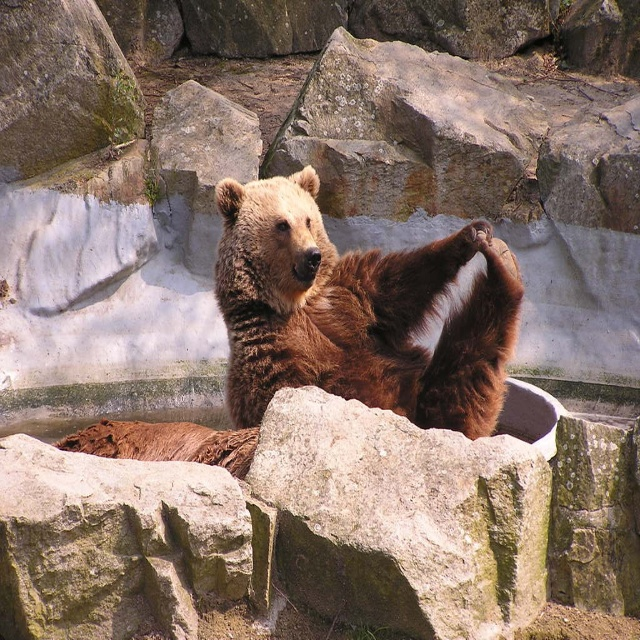Brown bear: (212, 165, 525, 442), (51, 417, 260, 480)
